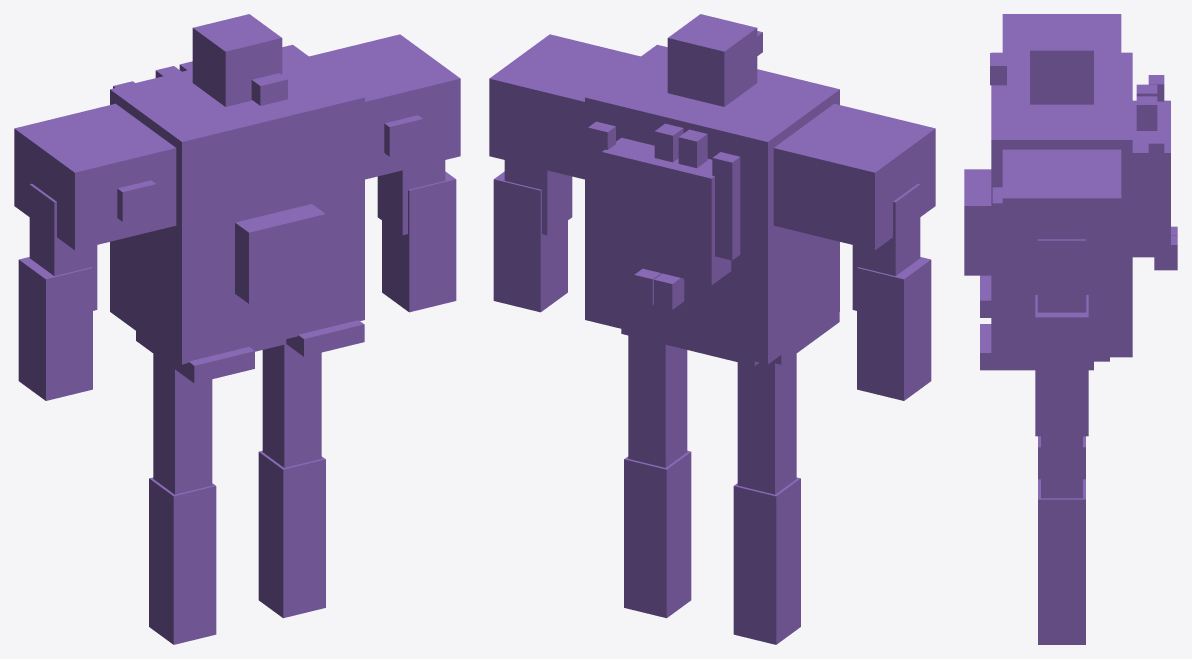
File: mechfall_toybox.obj
The picture shows the model from 3 angles, left to right: view 1: azimuth 30°, elevation 25°; view 2: azimuth 150°, elevation 25°; view 3: azimuth 270°, elevation 25°; orthographic projection. The views are drawn at different scales.
Visible parts, largest first — view 1: mechfall_toybox; view 2: mechfall_toybox; view 3: mechfall_toybox.
Boxes of the visible parts, x1,y1,x2,y2 form: mechfall_toybox: (14,14,460,644); mechfall_toybox: (489,14,935,644); mechfall_toybox: (964,14,1177,644).
Size of the model in its own units: 5.81 by 7.91 by 2.68.
